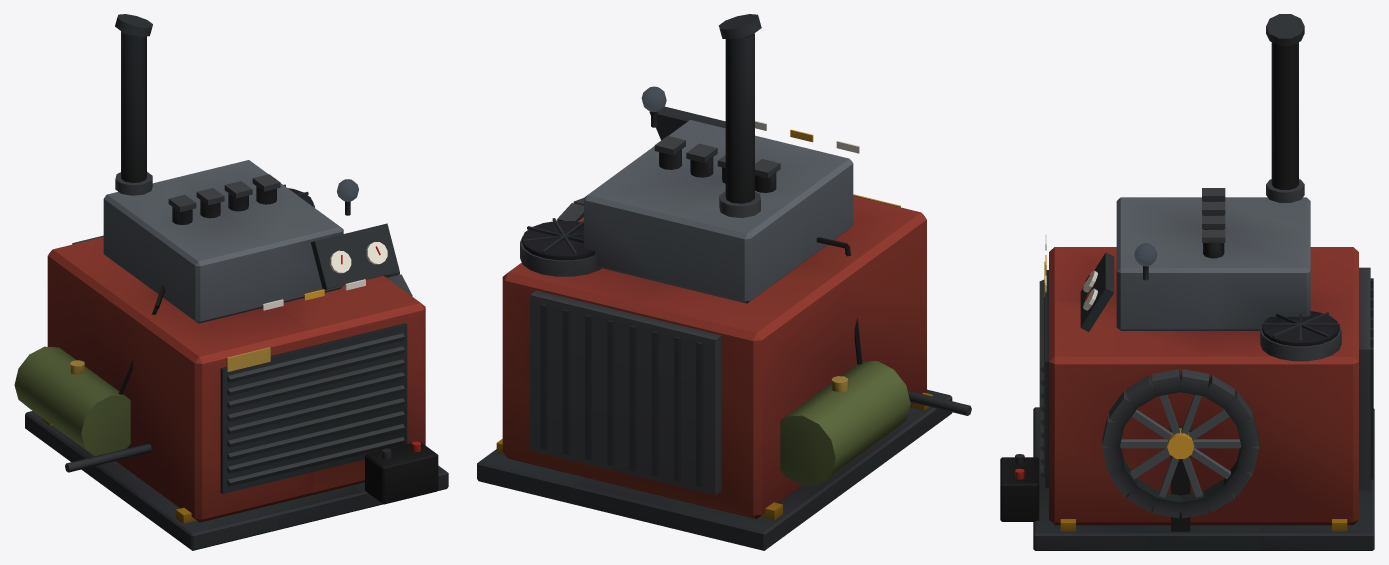
File: generator.glb
3 renders of one model, left to right at view 1: azimuth 30°, elevation 25°; view 2: azimuth 150°, elevation 25°; view 3: azimuth 270°, elevation 25°, orthographic. The views are drawn at different scales.
Visible parts, largest first — view 1: generator_body, generator_extra; view 2: generator_body, generator_extra; view 3: generator_body, flywheel, generator_extra.
Boxes of the visible parts, box(x1,y1,x2,y2) form: generator_body: box(14, 14, 448, 550); generator_extra: box(118, 184, 438, 504); generator_body: box(477, 14, 971, 550); generator_extra: box(520, 120, 862, 364); generator_body: box(1033, 14, 1374, 550); flywheel: box(1102, 369, 1258, 518); generator_extra: box(1000, 234, 1341, 521).
Bounding box in the file's own units: 2.04 × 2.48 × 1.93.
